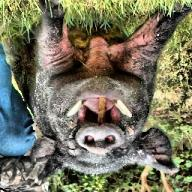boar: (0, 1, 191, 188)
